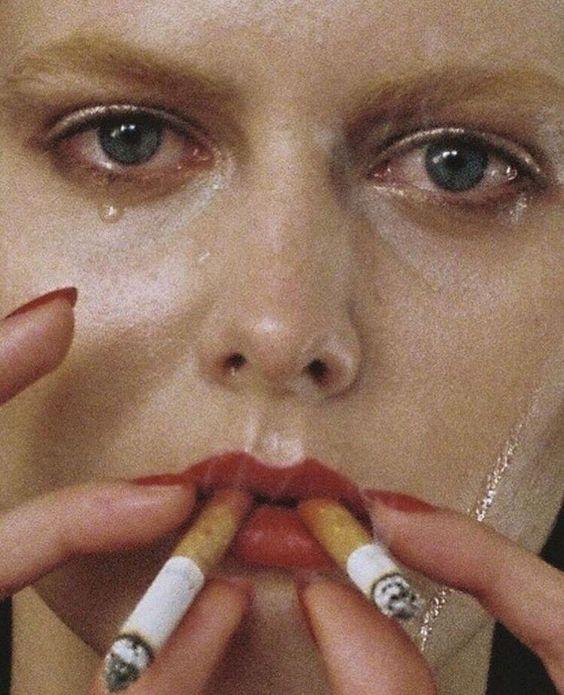cigarette: (102, 486, 255, 695), (297, 499, 421, 620)
